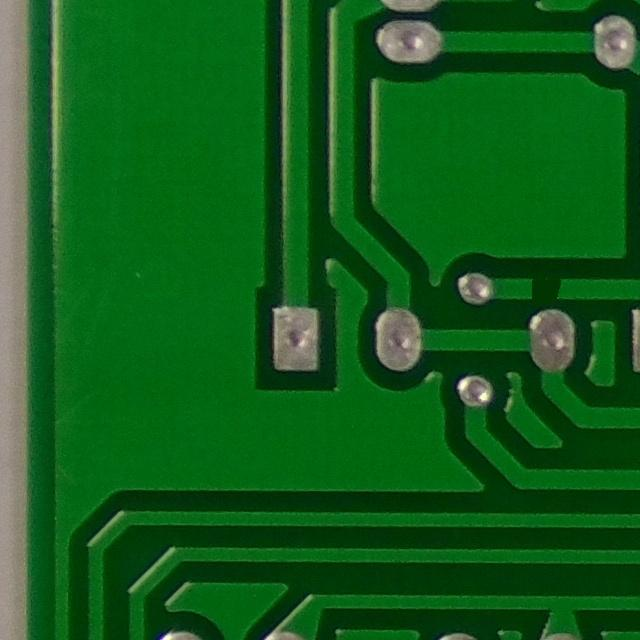open_circuit: (516, 267, 574, 311)
